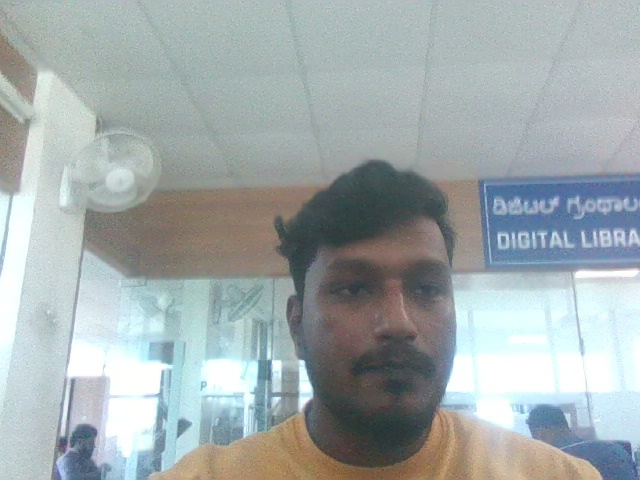real: (275, 143, 487, 443)
